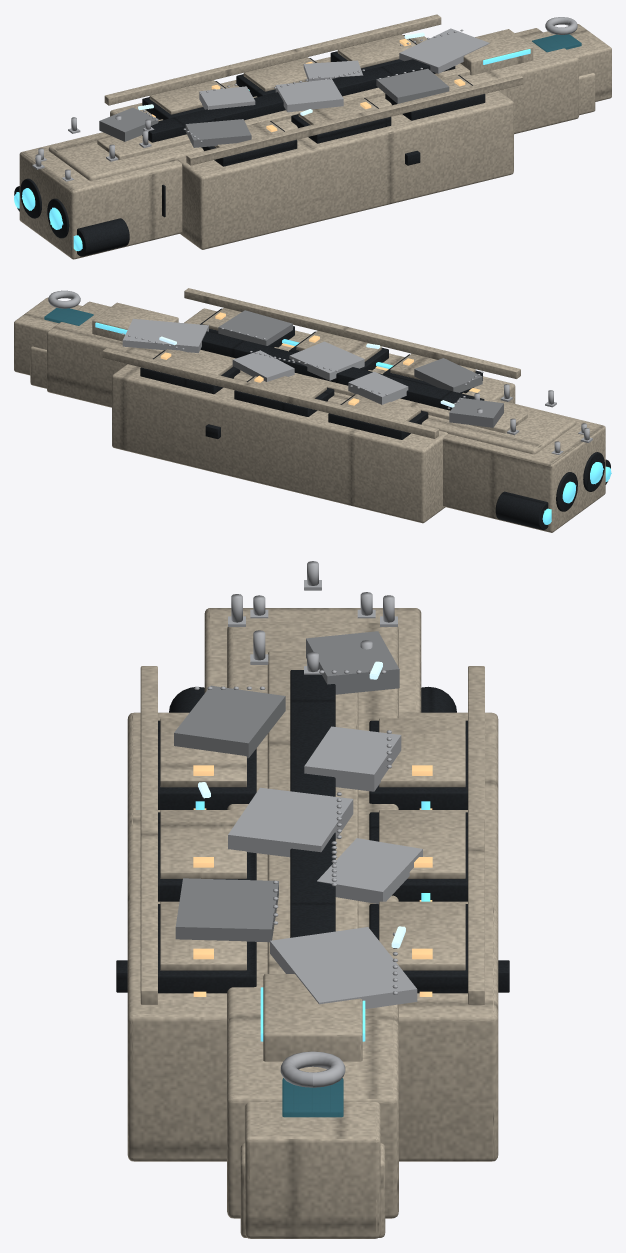
File: var_helios_span_reach_scrap_v01.glb
3 renders of one model, top to bottom at view 1: azimuth 30°, elevation 25°; view 2: azimuth 150°, elevation 25°; view 3: azimuth 270°, elevation 25°, orthographic. The views are drawn at different scales.
Parts seen in each view (by area): view 1: LOD0_Merged_Material_Hull, LOD0_Merged_Material_Mechanical, VAR_REACH_plate0, VAR_REACH_plate3, VAR_REACH_plate1, LOD1_Merged_Material_Hull, VAR_REACH_plate5, VAR_REACH_plate6, VAR_REACH_plate4, VAR_REACH_plate2, LOD0_HOOK_DRIVE_CORE, LOD0_Merged_Material_Glass (+2 smaller); view 2: LOD0_Merged_Material_Hull, LOD0_Merged_Material_Mechanical, VAR_REACH_plate0, LOD1_Merged_Material_Hull, VAR_REACH_plate1, VAR_REACH_plate3, VAR_REACH_plate5, VAR_REACH_plate6, VAR_REACH_plate4, VAR_REACH_plate2, LOD0_Merged_Material_Glass, LOD1_Merged_Material_Glass (+4 smaller); view 3: LOD0_Merged_Material_Hull, LOD0_Merged_Material_Mechanical, VAR_REACH_plate0, VAR_REACH_plate3, VAR_REACH_plate1, VAR_REACH_plate5, VAR_REACH_plate4, VAR_REACH_plate2, VAR_REACH_plate6, LOD1_Merged_Material_Hull, LOD0_Merged_Material_Glass, VAR_REACH_muzzlecollar (+2 smaller).
Part boxes in pixels (<box>): LOD0_Merged_Material_Hull: <box>19,14,611,259</box>; LOD0_Merged_Material_Mechanical: <box>14,35,485,256</box>; VAR_REACH_plate0: <box>399,28,489,73</box>; VAR_REACH_plate3: <box>275,79,343,112</box>; VAR_REACH_plate1: <box>376,68,449,103</box>; LOD1_Merged_Material_Hull: <box>19,24,611,259</box>; VAR_REACH_plate5: <box>185,119,251,147</box>; VAR_REACH_plate6: <box>99,107,158,141</box>; VAR_REACH_plate4: <box>199,86,255,109</box>; VAR_REACH_plate2: <box>303,60,363,81</box>; LOD0_HOOK_DRIVE_CORE: <box>14,189,82,250</box>; LOD0_Merged_Material_Glass: <box>532,34,581,52</box>; LOD0_Merged_Material_Hull: <box>14,288,605,532</box>; LOD0_Merged_Material_Mechanical: <box>140,308,610,529</box>; VAR_REACH_plate0: <box>122,318,208,352</box>; LOD1_Merged_Material_Hull: <box>14,298,605,532</box>; VAR_REACH_plate1: <box>218,310,292,345</box>; VAR_REACH_plate3: <box>289,341,364,380</box>; VAR_REACH_plate5: <box>414,358,482,392</box>; VAR_REACH_plate6: <box>449,397,503,427</box>; VAR_REACH_plate4: <box>348,371,408,404</box>; VAR_REACH_plate2: <box>232,350,294,381</box>; LOD0_Merged_Material_Glass: <box>44,308,93,325</box>; LOD1_Merged_Material_Glass: <box>44,308,93,325</box>; LOD0_Merged_Material_Hull: <box>127,608,498,1238</box>; LOD0_Merged_Material_Mechanical: <box>116,670,509,993</box>; VAR_REACH_plate0: <box>270,927,417,1008</box>; VAR_REACH_plate3: <box>228,787,353,857</box>; VAR_REACH_plate1: <box>175,878,278,942</box>; VAR_REACH_plate5: <box>174,685,285,758</box>; VAR_REACH_plate4: <box>304,726,401,791</box>; VAR_REACH_plate2: <box>317,838,422,904</box>; VAR_REACH_plate6: <box>306,631,399,694</box>; LOD1_Merged_Material_Hull: <box>128,608,497,1238</box>; LOD0_Merged_Material_Glass: <box>282,1078,343,1117</box>; VAR_REACH_muzzlecollar: <box>280,1051,345,1087</box>.
Size of what is drawn, in the model's own units: 28.66 by 5.55 by 8.7.
Materials: 8 (5 with a texture image).
